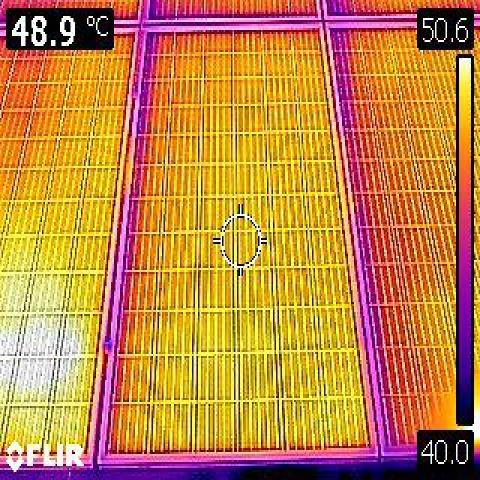fault: (0, 313, 70, 398)
